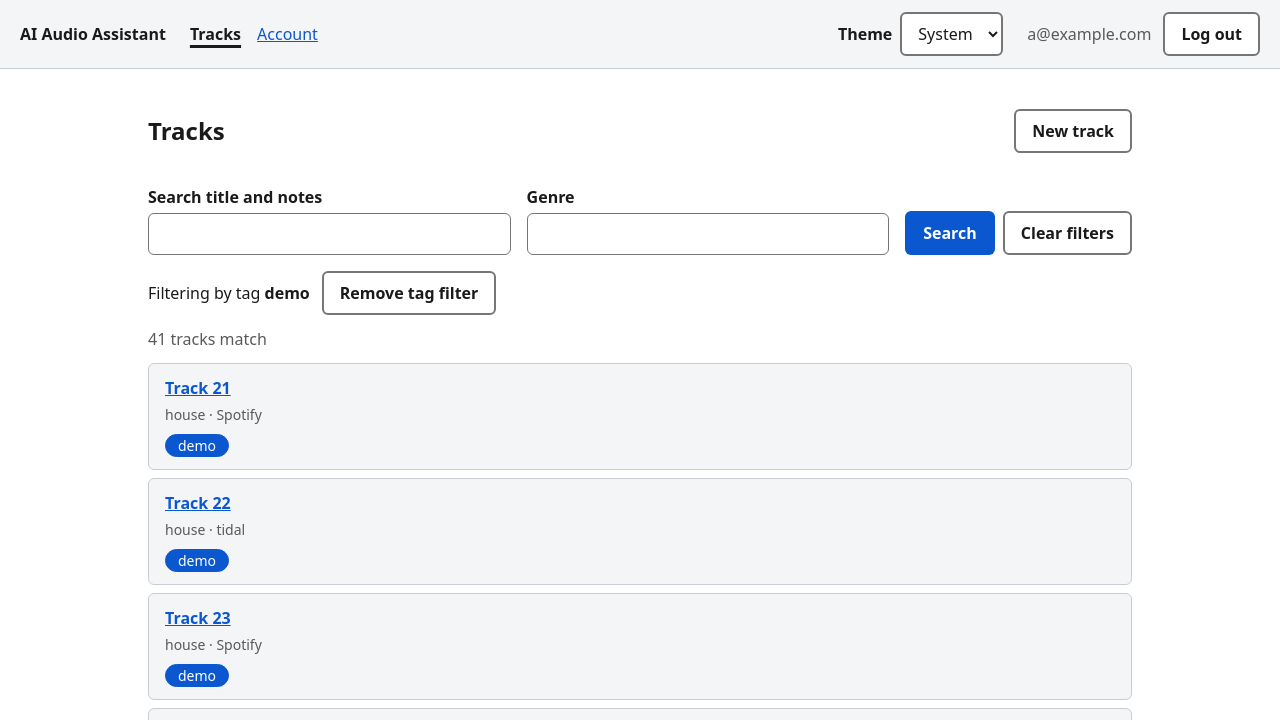
the URL is the state › searches on Enter, goes back to page 1 and keeps the tag
This screenshot has width=1280, height=720.
Expected: the link "Track 21" is shown, top-left (165, 377), bottom-right (231, 399)
Type "night" into the search field labelled "Search title and notes".
click(329, 234); type("night")  # box top-left (148, 213), bottom-right (511, 255)
Then press Enter
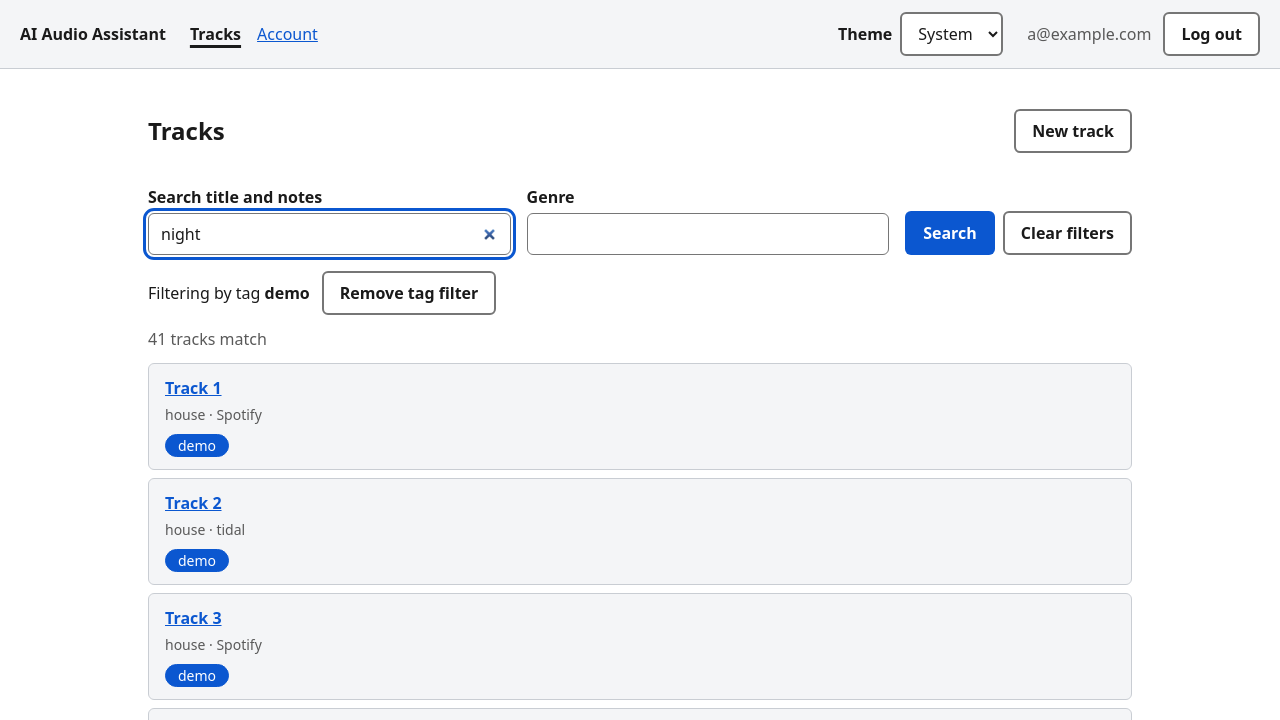
Result: the link "Track 1" is shown at top-left (165, 377), bottom-right (222, 399)
